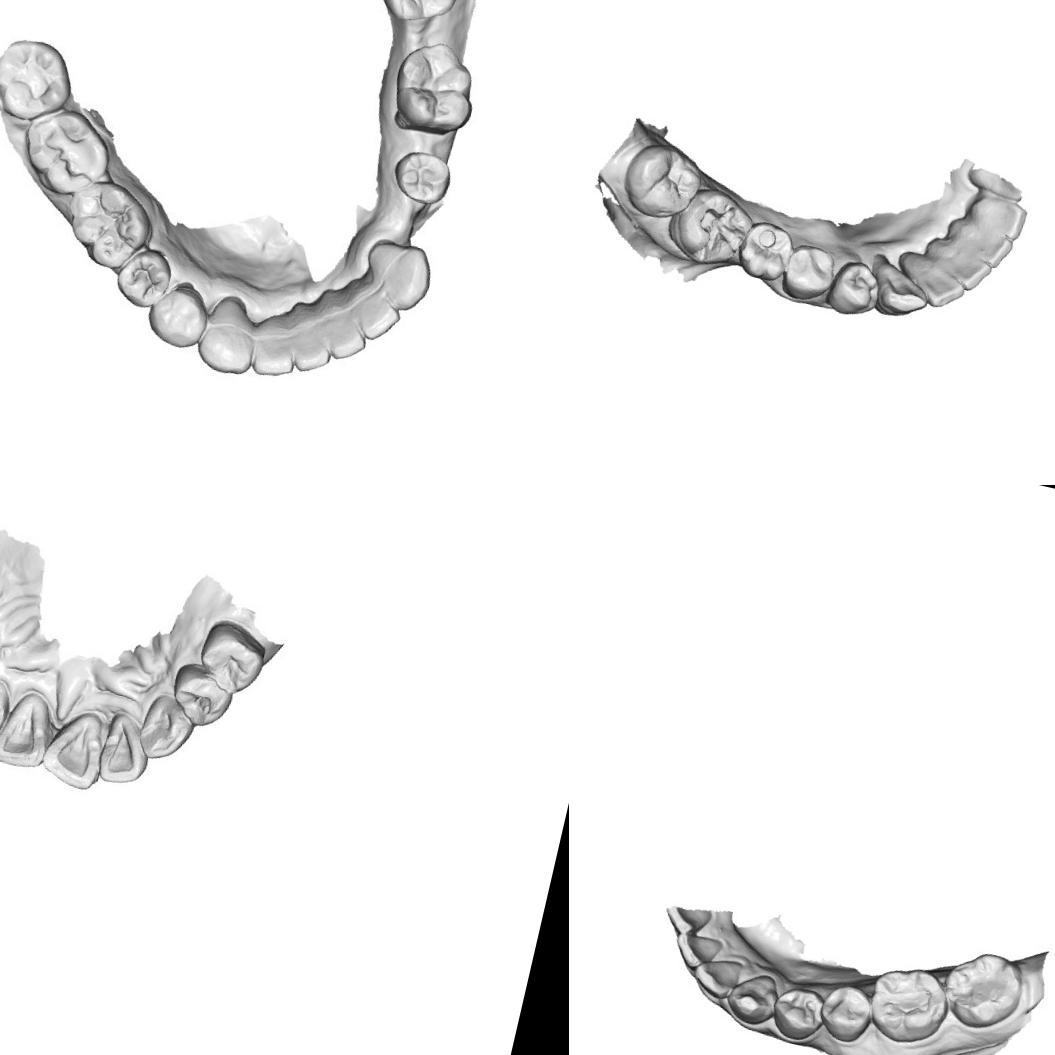canine: (192, 288, 266, 382), (356, 235, 441, 316), (860, 251, 936, 324), (134, 692, 200, 768), (722, 966, 782, 1031)
incisor: (35, 701, 116, 795), (0, 683, 58, 775), (94, 708, 158, 790), (245, 318, 302, 382), (966, 192, 1030, 242), (688, 952, 744, 1002), (670, 928, 725, 976), (351, 295, 402, 346), (322, 316, 372, 366), (918, 268, 968, 314), (292, 331, 335, 380), (972, 229, 1016, 272), (950, 253, 994, 295), (0, 674, 15, 748)
inlay: (688, 196, 752, 270)
molar: (12, 97, 122, 207), (54, 170, 162, 278), (386, 34, 489, 142), (936, 944, 1030, 1038), (861, 959, 956, 1052), (616, 134, 708, 226), (0, 30, 82, 131), (367, 0, 472, 35)
premolar: (191, 615, 273, 702), (164, 658, 240, 734), (139, 279, 210, 352), (110, 239, 176, 314), (385, 144, 458, 210), (732, 216, 798, 286), (814, 980, 878, 1048), (766, 980, 829, 1046), (778, 240, 840, 306), (824, 256, 886, 322)
